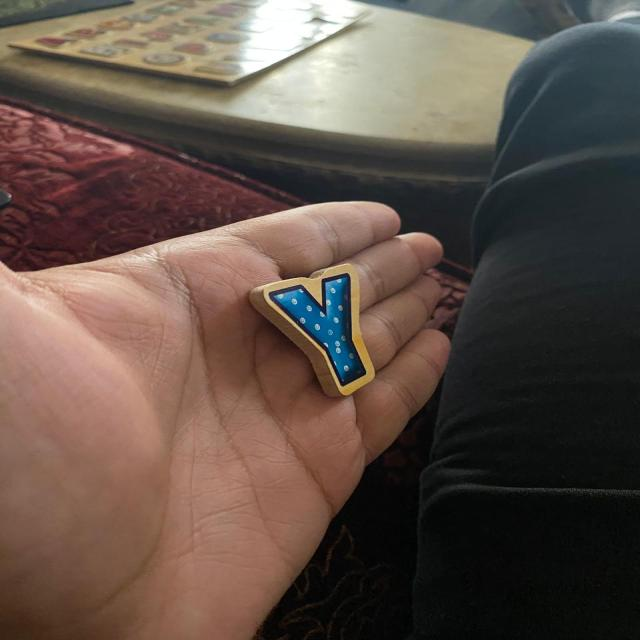Y: (250, 264, 374, 396)
